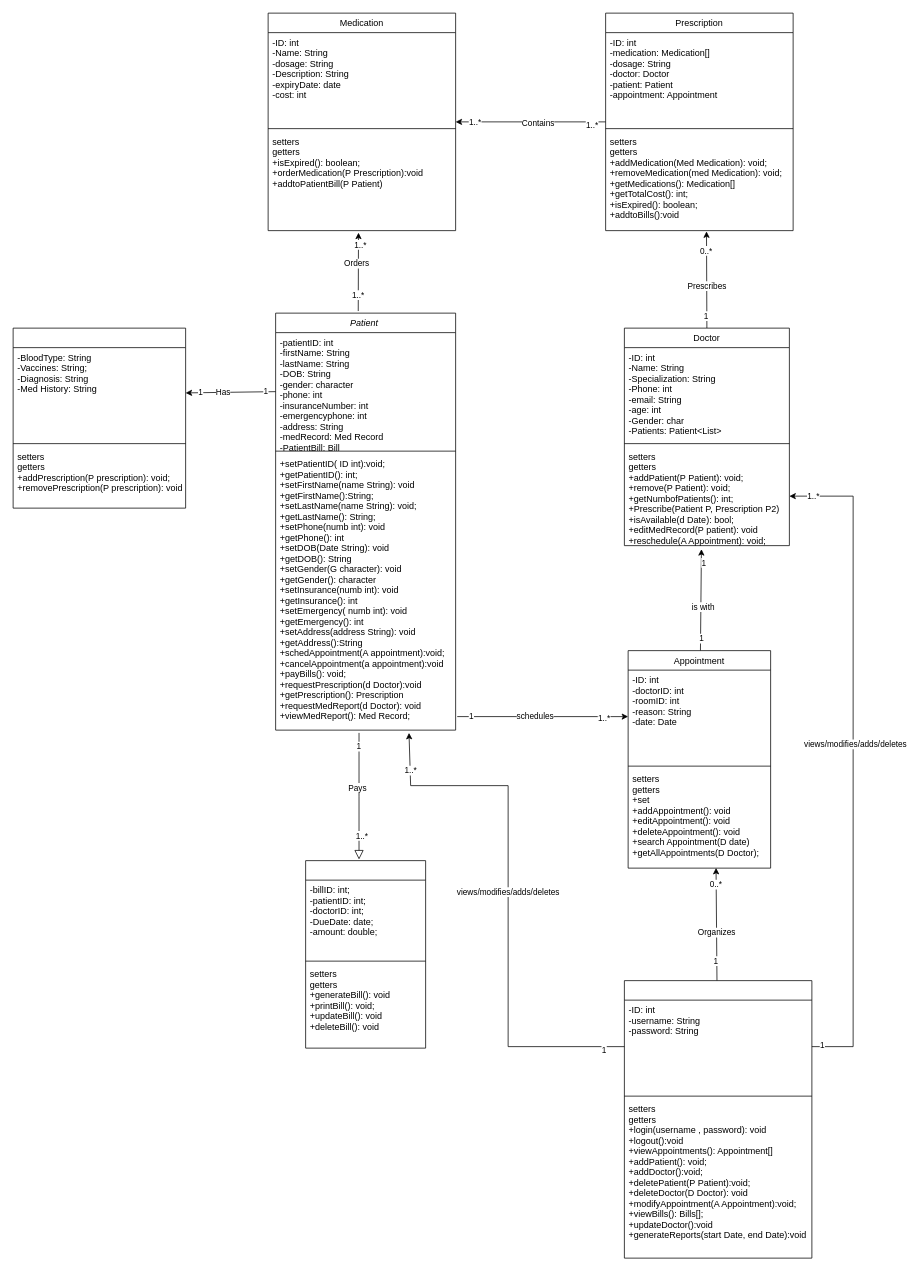
The diagram is 920 pixels wide and 1274 high, and some of its shapes have lost their labels. Here are the shapes that lost their labels. From the top down, the box of each, then its label:
(12, 327, 186, 508): Med Record
(305, 860, 426, 1048): Bills
(624, 980, 812, 1258): Admin
